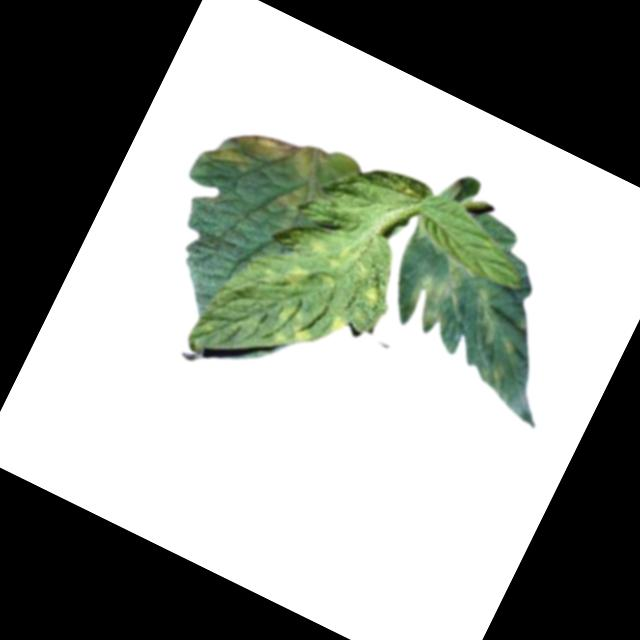Leaf_Mold: (397, 248, 475, 339), (228, 112, 324, 184), (265, 297, 324, 360), (201, 137, 255, 182), (273, 178, 317, 221), (280, 259, 314, 296), (356, 282, 385, 312), (304, 236, 331, 263), (327, 312, 349, 338)
